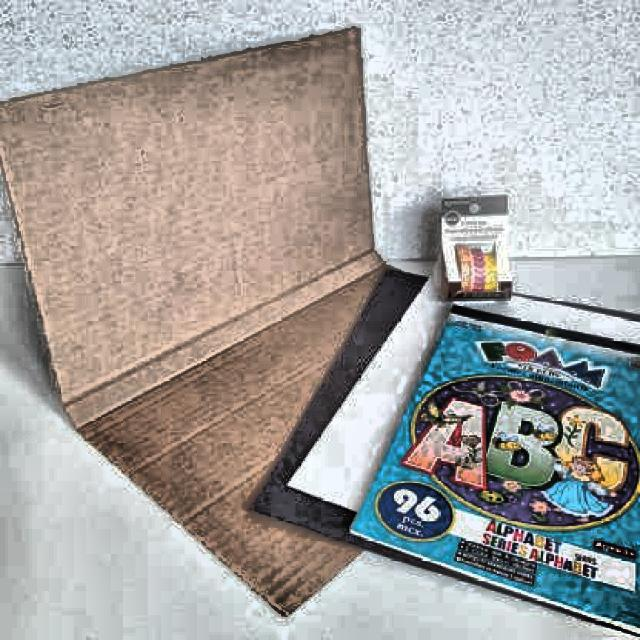Cardbox: (0, 14, 455, 615)
